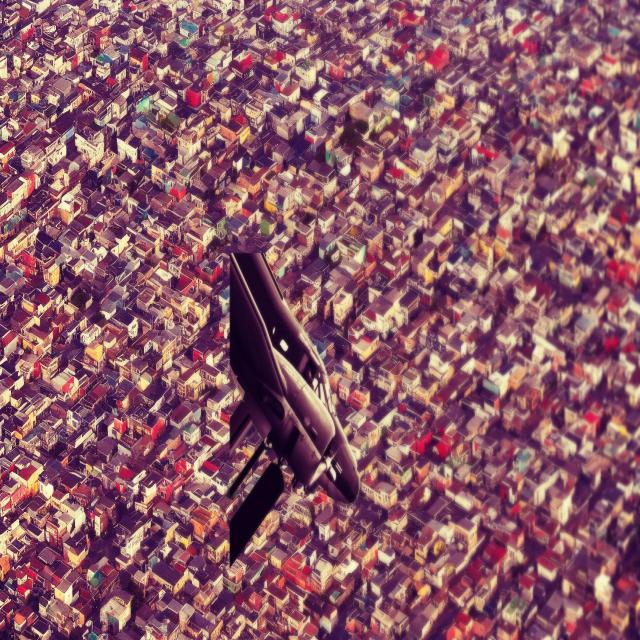airplane: (226, 249, 360, 505)
